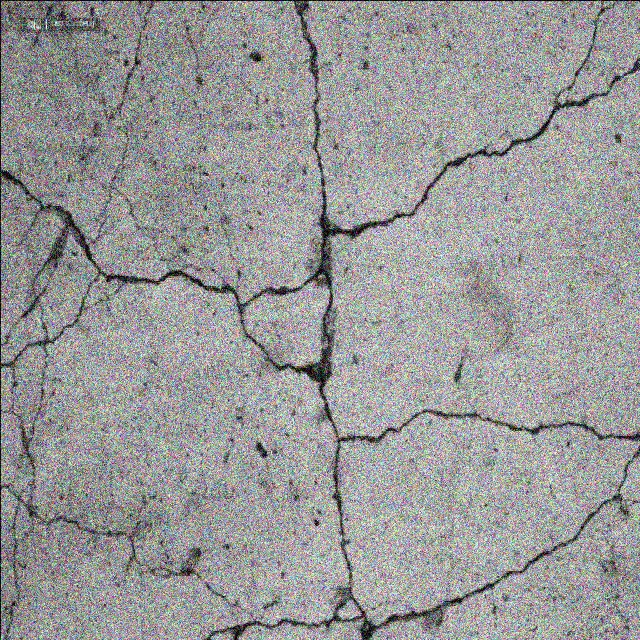SurfaceCrack: (320, 3, 639, 262), (249, 0, 389, 493), (338, 448, 639, 638)
